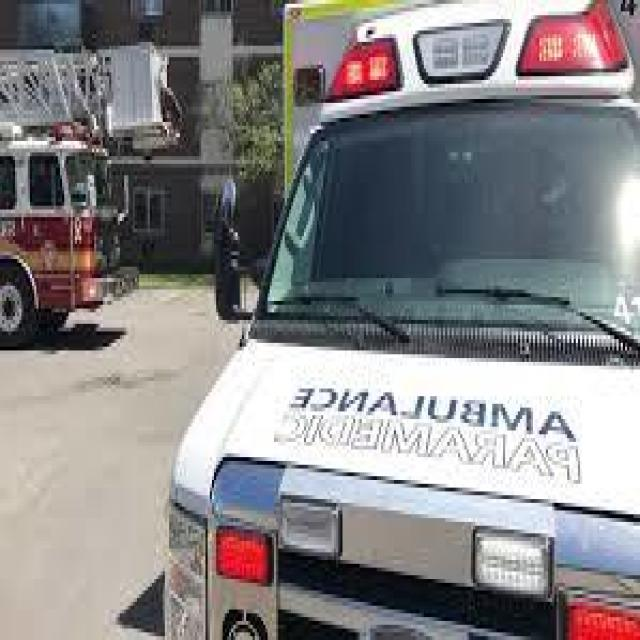ambulance: (161, 6, 640, 503)
